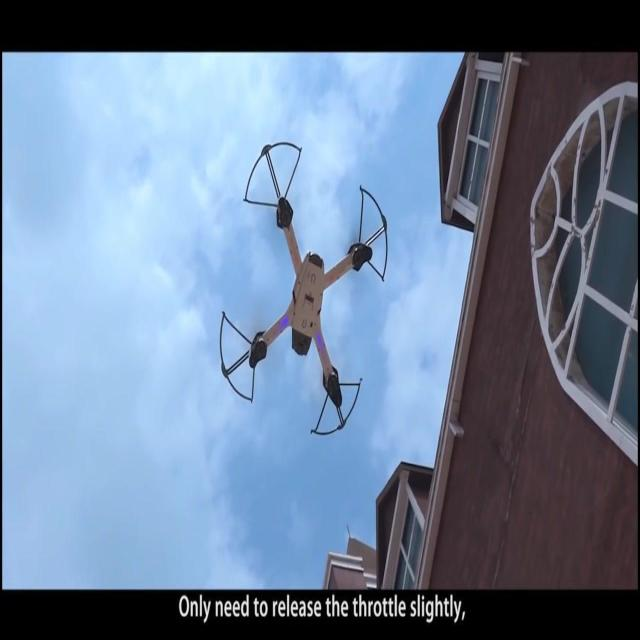drone: (220, 139, 389, 437)
